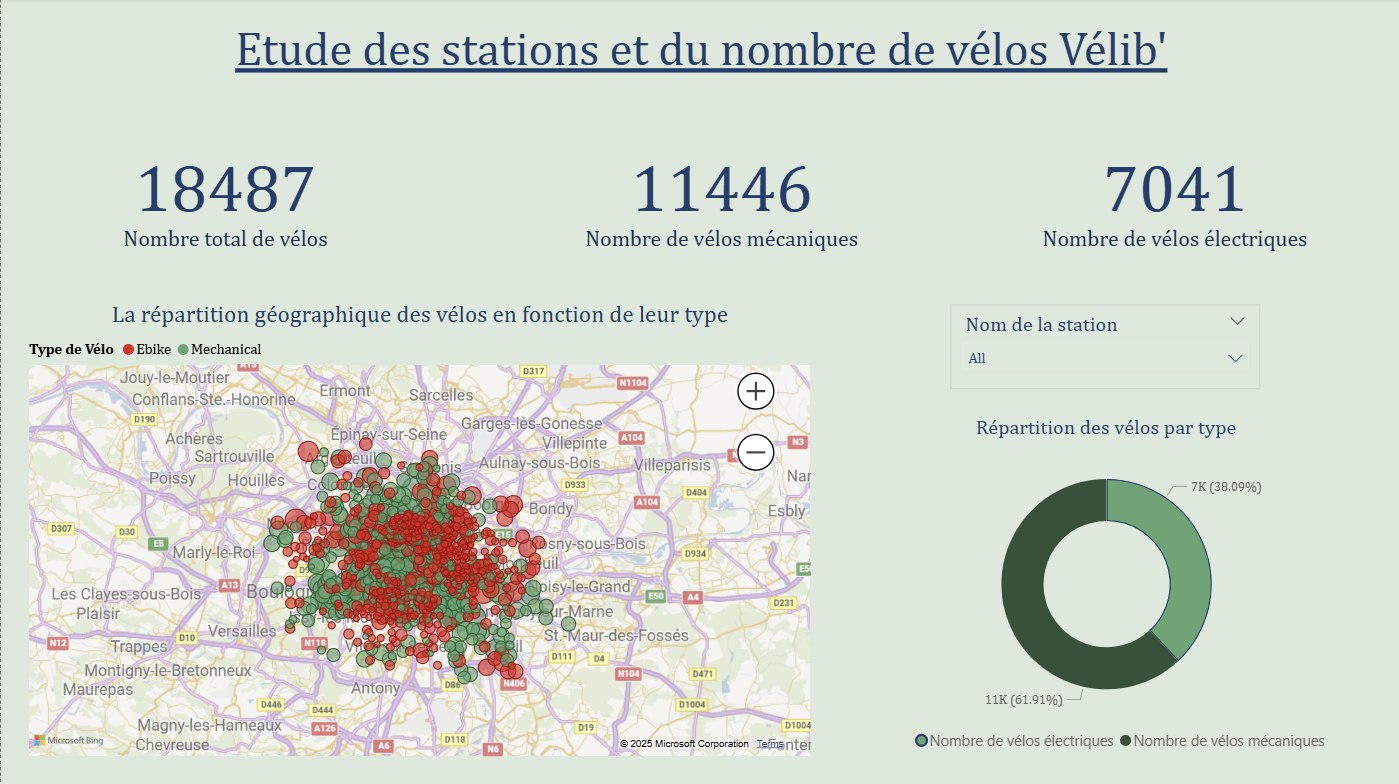

Layout of this report page (visuals, bound fields, positions):
{"tool":"powerbi","page":{"name":"Page 1","canvas":[1280,720],"ordinal":0},"visuals":[{"type":"map","title":"La répartition géographique des vélos en fonction de leur type","fields":{"Y":["station_information.lat"],"X":["station_information.lon"],"Size":["station_information.Nombre total de vélos"],"Series":["Merge2.Custom"]},"box":[21.2,277.1,725.3,422.5],"z":0},{"type":"card","fields":{"Values":["station_information.Nombre de vélo mécanique"]},"box":[517.9,110.5,283.2,140.8],"z":1000},{"type":"card","fields":{"Values":["station_information.Nombre de vélos électriques"]},"box":[943.3,110.5,262,140.8],"z":2000},{"type":"card","fields":{"Values":["station_information.Nombre total de vélos"]},"box":[89.3,110.5,231.7,140.8],"z":3000},{"type":"donutChart","title":"Répartition des vélos par type","fields":{"Y":["station_information.Nombre de vélos électriques","station_information.Nombre de vélo mécanique"]},"box":[801,381.6,419.4,318],"z":4000},{"type":"slicer","fields":{"Values":["station_information.name"]},"box":[869.3,281.6,283.5,77.5],"z":5000},{"type":"textbox","box":[137.8,16.7,1006.9,75.7],"z":6000}]}

Visuals, with their boxes in screenshot pixels (x1, y1, x2, y2), scaled from the page's 1280x720 canvas onto the 1399x784 screenshot:
"La répartition géographique des vélos en fonction de leur type" map: bbox=(23, 302, 816, 762)
card - station_information.Nombre de vélo mécanique: bbox=(566, 120, 876, 274)
card - station_information.Nombre de vélos électriques: bbox=(1031, 120, 1317, 274)
card - station_information.Nombre total de vélos: bbox=(98, 120, 351, 274)
"Répartition des vélos par type" donutChart: bbox=(875, 416, 1334, 762)
slicer - station_information.name: bbox=(950, 307, 1260, 391)
textbox: bbox=(151, 18, 1251, 101)
